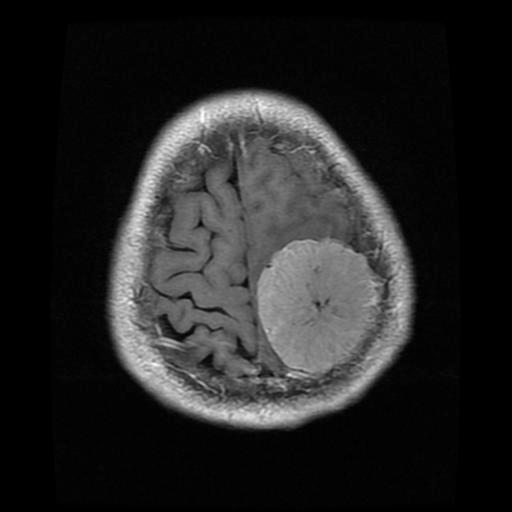Tumour-Meningioma: (231, 220, 399, 382)
